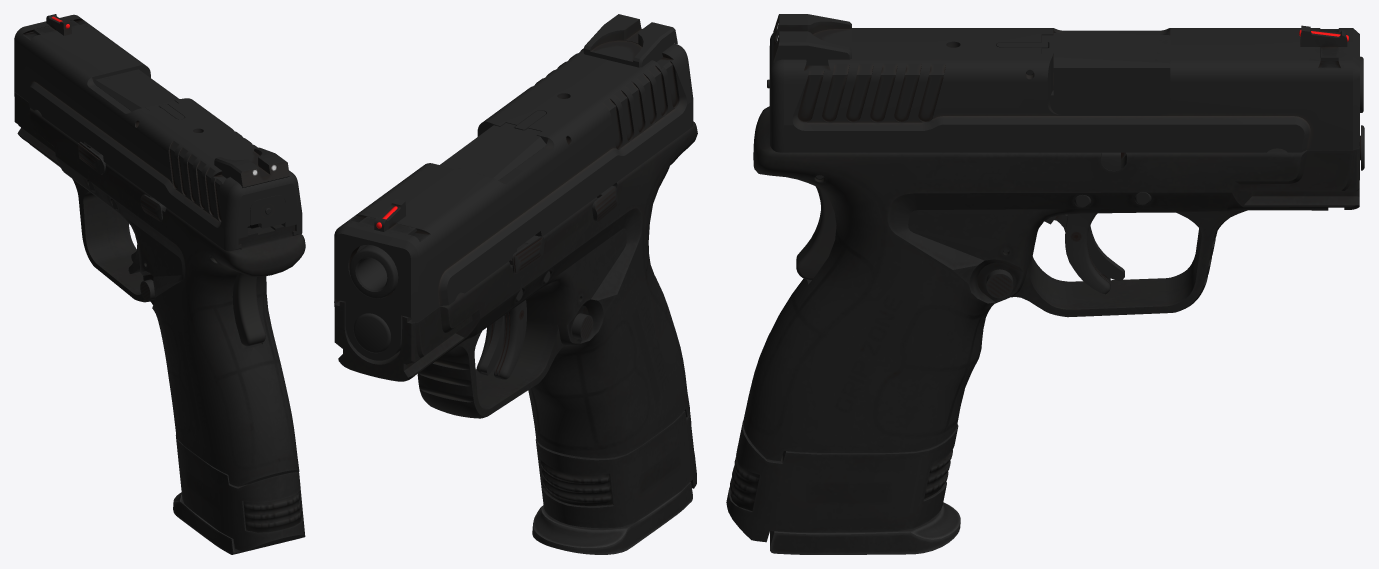
The picture shows the model from 3 angles, left to right: view 1: azimuth 30°, elevation 25°; view 2: azimuth 150°, elevation 25°; view 3: azimuth 270°, elevation 25°; orthographic projection. The views are drawn at different scales.
Parts seen in each view (by area): view 1: xd_frame, xd_slide, xd_mag, xd_barrel, xd_grip_safe, xd_lock_open; view 2: xd_frame, xd_slide, xd_mag, xd_barrel, xd_trigger, xd_trigger_safe, xd_lock_open, mag_release_left; view 3: xd_frame, xd_slide, xd_mag, xd_barrel, xd_trigger, xd_grip_safe, xd_trigger_safe.
Boxes of the visible parts, <box> form: xd_frame: <box>14,92,305,486</box>; xd_slide: <box>14,14,302,251</box>; xd_mag: <box>173,435,305,554</box>; xd_barrel: <box>93,69,179,111</box>; xd_grip_safe: <box>232,272,265,346</box>; xd_lock_open: <box>140,194,165,221</box>; xd_frame: <box>334,121,697,458</box>; xd_slide: <box>334,14,693,360</box>; xd_mag: <box>532,411,696,554</box>; xd_barrel: <box>349,123,546,298</box>; xd_trigger: <box>476,300,526,379</box>; xd_trigger_safe: <box>480,315,504,374</box>; xd_lock_open: <box>592,185,617,221</box>; mag_release_left: <box>572,313,593,340</box>; xd_frame: <box>743,106,1364,461</box>; xd_slide: <box>767,14,1359,179</box>; xd_mag: <box>726,421,960,554</box>; xd_barrel: <box>1042,33,1363,114</box>; xd_trigger: <box>1065,213,1110,294</box>; xd_grip_safe: <box>796,186,836,279</box>; xd_trigger_safe: <box>1044,214,1124,280</box>.
Bounding box in the file's own units: 2.95 × 12.53 × 14.41.
1 material, 1 textured.
